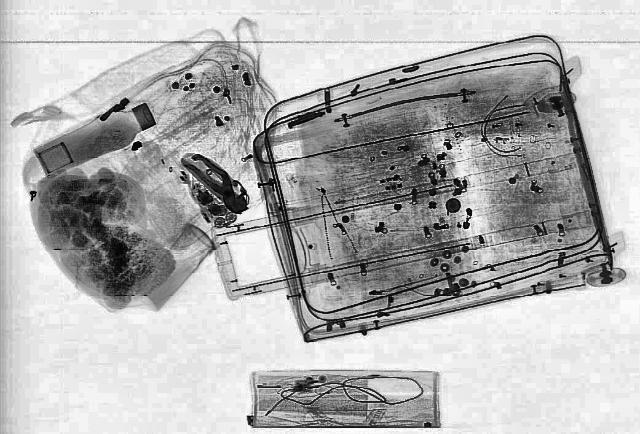Pliers: (176, 150, 260, 216)
